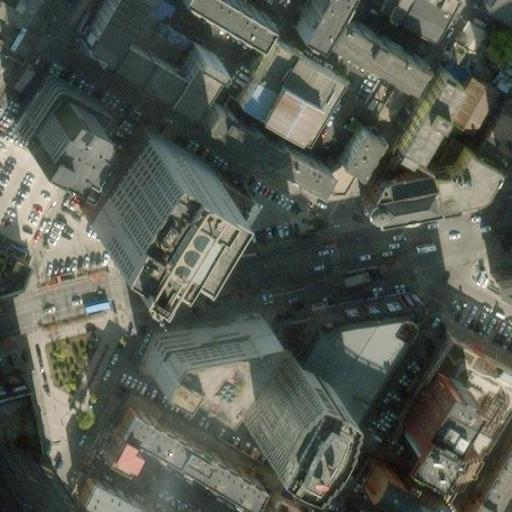building: (280, 307, 404, 462), (94, 401, 259, 506), (390, 328, 512, 465), (91, 149, 208, 279), (227, 17, 341, 130), (136, 308, 255, 398), (384, 364, 467, 466), (237, 352, 321, 451), (9, 80, 94, 166), (320, 6, 421, 78), (390, 72, 462, 164), (195, 101, 284, 171), (104, 38, 180, 101), (10, 92, 73, 167), (73, 468, 165, 512), (367, 170, 443, 223), (434, 148, 503, 206), (358, 464, 436, 512), (440, 12, 498, 76), (81, 0, 142, 57), (163, 50, 216, 114), (378, 0, 451, 43), (273, 143, 331, 189), (446, 71, 490, 128), (330, 119, 377, 172), (0, 242, 25, 294), (319, 161, 354, 195), (245, 490, 291, 512)
